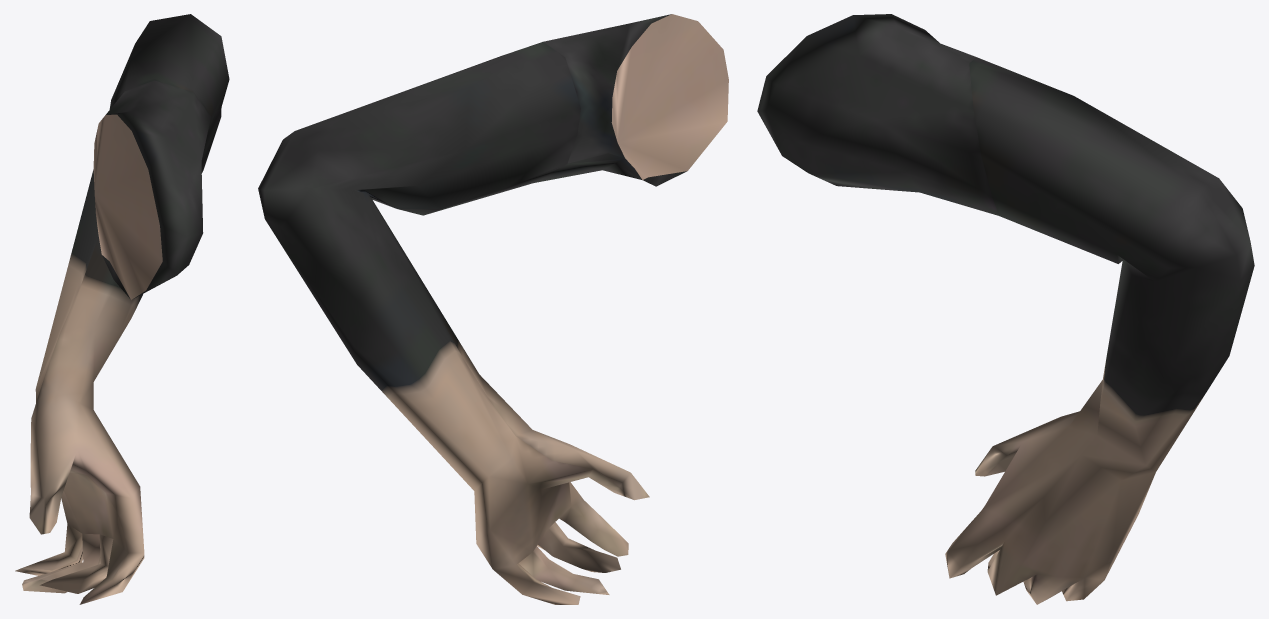
Rendered from dest_nt_nuked_female_05_arm_left_LOD2.obj.
The picture shows the model from 3 angles, left to right: view 1: azimuth 30°, elevation 25°; view 2: azimuth 150°, elevation 25°; view 3: azimuth 270°, elevation 25°; orthographic projection. The views are drawn at different scales.
Parts seen in each view (by area): view 1: mtl_nt_2020_manne_fem01_head2; view 2: mtl_nt_2020_manne_fem01_head2; view 3: mtl_nt_2020_manne_fem01_head2.
Part boxes in pixels (box(x1,y1,x2,y2)): mtl_nt_2020_manne_fem01_head2: box(15, 14, 229, 604); mtl_nt_2020_manne_fem01_head2: box(258, 14, 728, 604); mtl_nt_2020_manne_fem01_head2: box(757, 14, 1254, 604).
Size of the model in its own units: 21.86 by 39.31 by 31.01.
